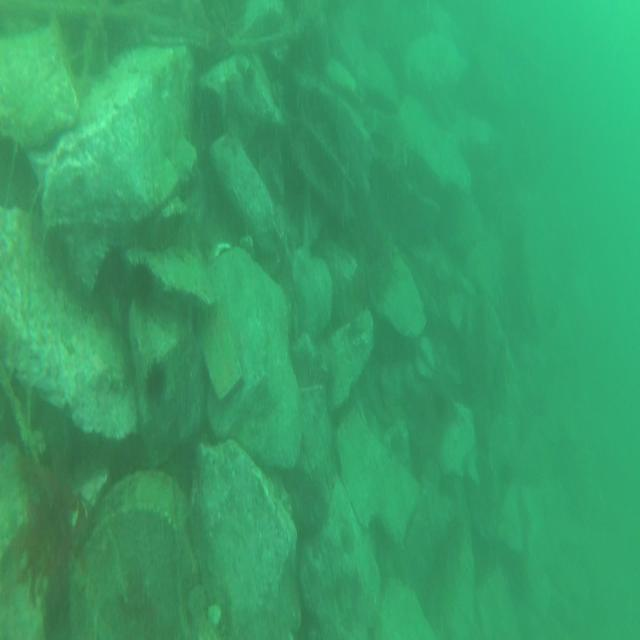echinus: (126, 258, 156, 307), (145, 358, 170, 402)
